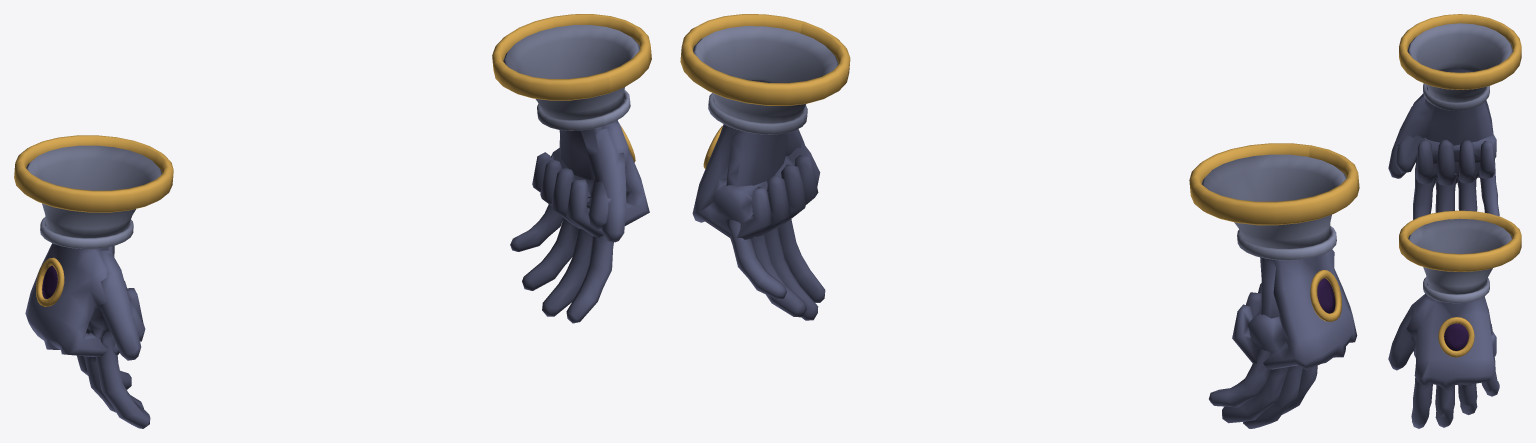
Rendered from g_cosmic_f.glb.
3 renders of one model, left to right at view 1: azimuth 30°, elevation 25°; view 2: azimuth 150°, elevation 25°; view 3: azimuth 270°, elevation 25°, orthographic. The views are drawn at different scales.
Visible parts, largest first — view 1: ArmL_Gauntlet, ArmR_Gauntlet, ArmL_HandOpen, ArmR_Hand, ArmL_Hand, ArmR_HandOpen; view 2: ArmL_Gauntlet, ArmR_Gauntlet, ArmR_Hand, ArmL_HandOpen, ArmL_Hand, ArmR_HandOpen; view 3: ArmR_Gauntlet, ArmL_Gauntlet, ArmL_Hand, ArmR_HandOpen, ArmR_Hand, ArmL_HandOpen.
Boxes of the visible parts, x1,y1,x2,y2 form: ArmL_Gauntlet: (492,14,651,130); ArmR_Gauntlet: (14,135,173,248); ArmL_HandOpen: (510,126,626,323); ArmR_Hand: (25,237,145,356); ArmL_Hand: (532,120,649,237); ArmR_HandOpen: (77,245,150,428); ArmL_Gauntlet: (680,14,850,134); ArmR_Gauntlet: (1189,143,1359,260); ArmR_Hand: (1232,249,1357,370); ArmL_HandOpen: (726,129,825,320); ArmL_Hand: (692,80,820,239); ArmR_HandOpen: (1209,257,1317,428); ArmR_Gauntlet: (1399,14,1521,110); ArmL_Gauntlet: (1399,210,1521,303); ArmL_Hand: (1406,285,1496,389); ArmR_HandOpen: (1388,89,1499,219); ArmR_Hand: (1395,67,1496,186); ArmL_HandOpen: (1388,284,1499,428).
Size of the model in its own units: 0.6151 by 0.2462 by 0.1415.
